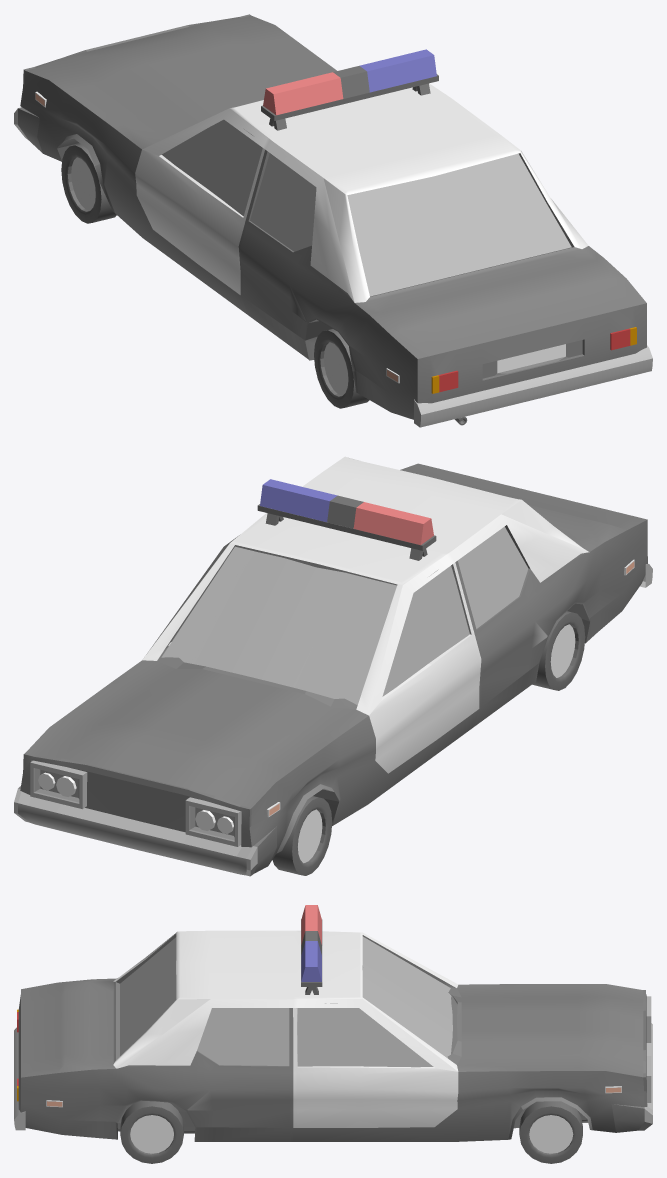
File: Fullfilled_Police_Car.glb
3 renders of one model, top to bottom at view 1: azimuth 30°, elevation 25°; view 2: azimuth 150°, elevation 25°; view 3: azimuth 270°, elevation 25°, orthographic. The views are drawn at different scales.
Visible parts, largest first — view 1: Fullfilled_Police_Car; view 2: Fullfilled_Police_Car; view 3: Fullfilled_Police_Car.
Boxes of the visible parts, x1,y1,x2,y2 form: Fullfilled_Police_Car: [14, 14, 652, 427]; Fullfilled_Police_Car: [14, 456, 652, 876]; Fullfilled_Police_Car: [14, 905, 652, 1163].
Bounding box in the file's own units: 0.7163 × 0.6479 × 2.05.
